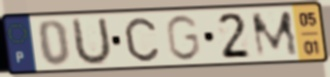0: (35, 18, 73, 68)
2: (215, 11, 251, 61)
C: (122, 16, 161, 64)
G: (163, 13, 202, 63)
M: (248, 9, 301, 60)
U: (71, 15, 114, 68)
